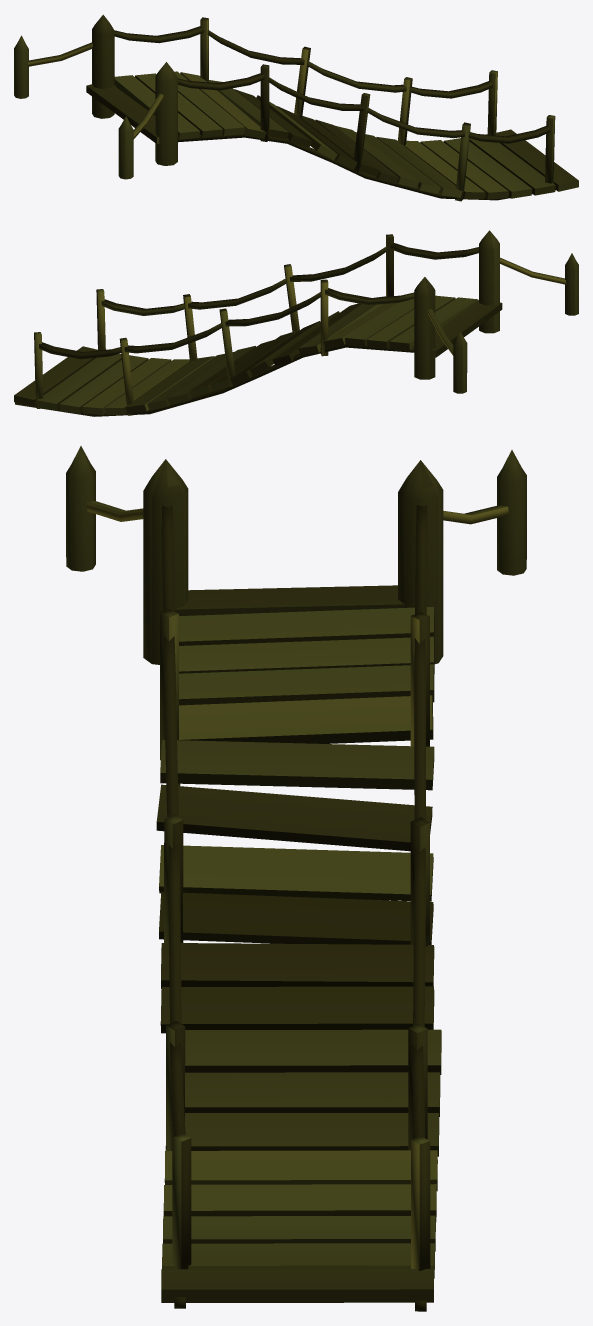
File: bridge_medium_0_1.fbx
The picture shows the model from 3 angles, top to bottom: view 1: azimuth 30°, elevation 25°; view 2: azimuth 150°, elevation 25°; view 3: azimuth 270°, elevation 25°; orthographic projection. The views are drawn at different scales.
Visible parts, largest first — view 1: Bridge_Small_0_1.001; view 2: Bridge_Small_0_1.001; view 3: Bridge_Small_0_1.001.
Part boxes in pixels (left/top/right/bottom): Bridge_Small_0_1.001: left=14, top=14, right=578, bottom=201; Bridge_Small_0_1.001: left=14, top=230, right=578, bottom=416; Bridge_Small_0_1.001: left=66, top=446, right=526, bottom=1311.
Bounding box in the file's own units: 280 × 127 × 117.
